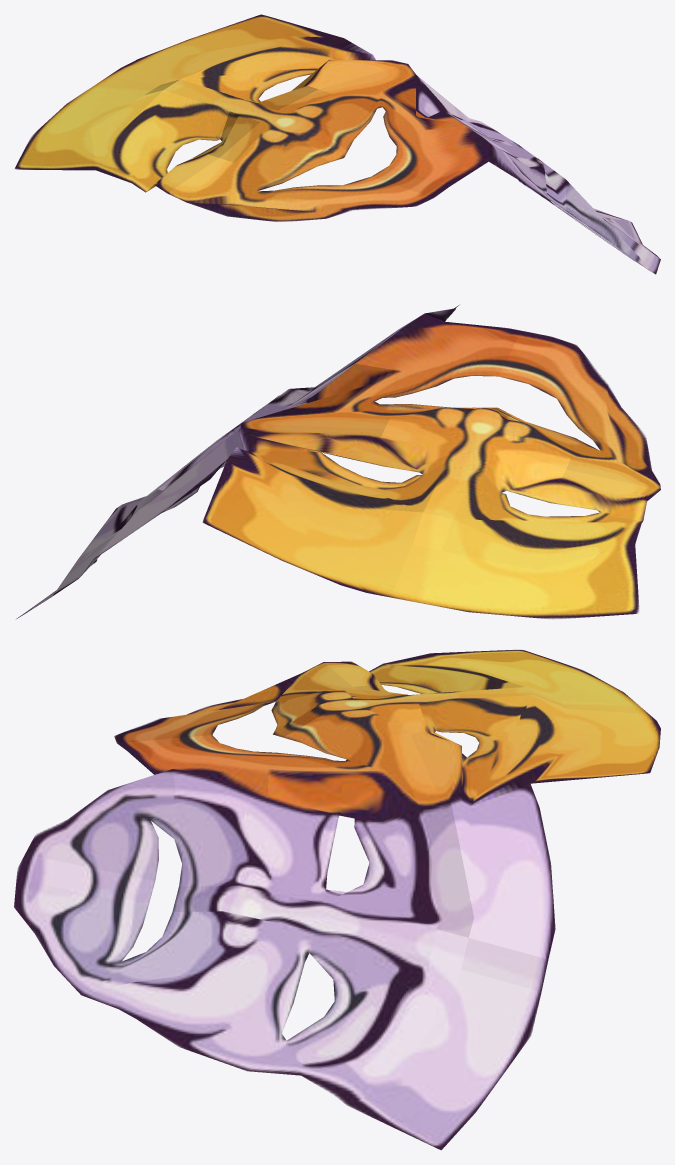
File: theater.glb
3 views of the same model, one above another, from view 1: azimuth 30°, elevation 25°; view 2: azimuth 150°, elevation 25°; view 3: azimuth 270°, elevation 25° (orthographic). The views are drawn at different scales.
Parts seen in each view (by area): view 1: masks; view 2: masks; view 3: masks.
Part boxes in pixels (left/top/right/bottom): masks: left=15, top=14, right=660, bottom=274; masks: left=16, top=305, right=660, bottom=619; masks: left=14, top=649, right=660, bottom=1150.
Bounding box in the file's own units: 2.38 × 0.9275 × 2.1.
Materials: 1 (1 with a texture image).
